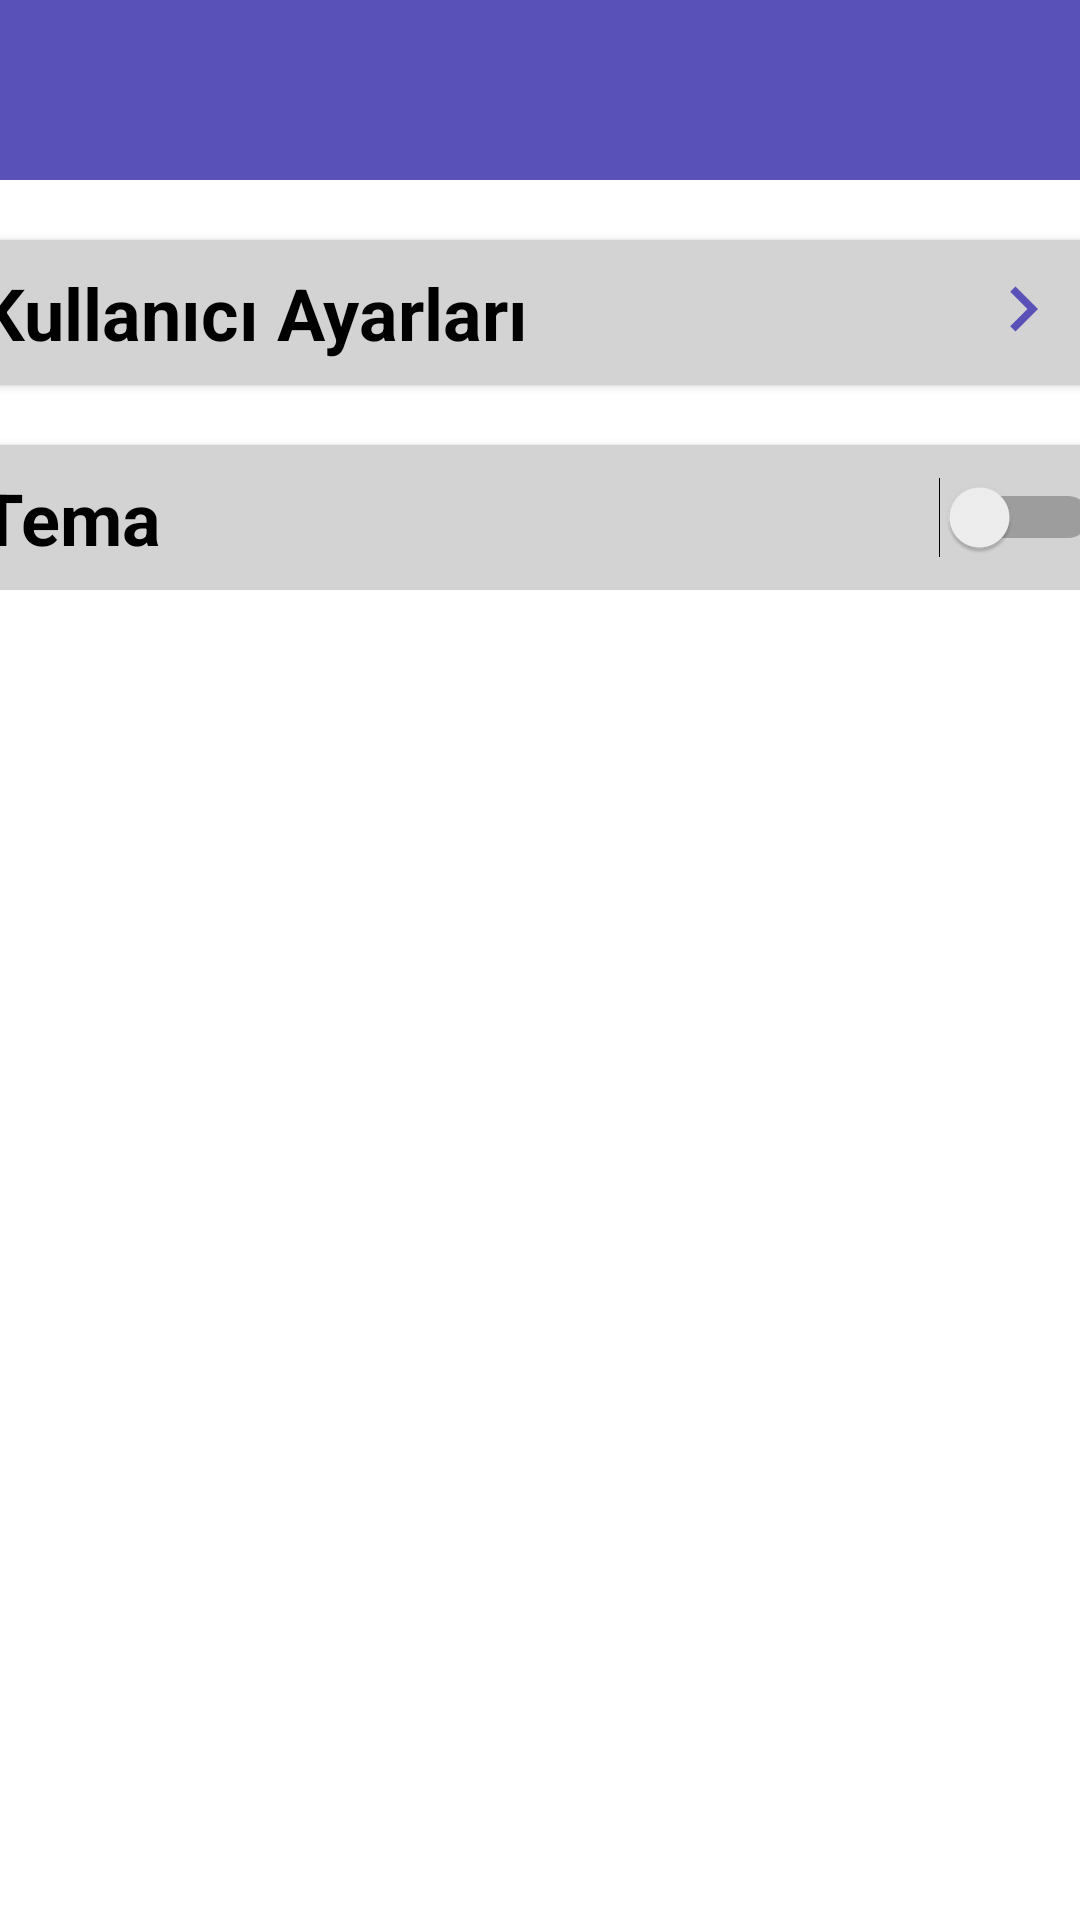

Named icons in this screenshot (1080×1920) and their centers, [x,y]:
chevron right: [1024,309]
